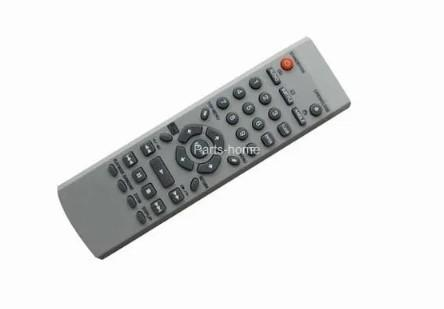Remote control: (56, 37, 352, 261)
